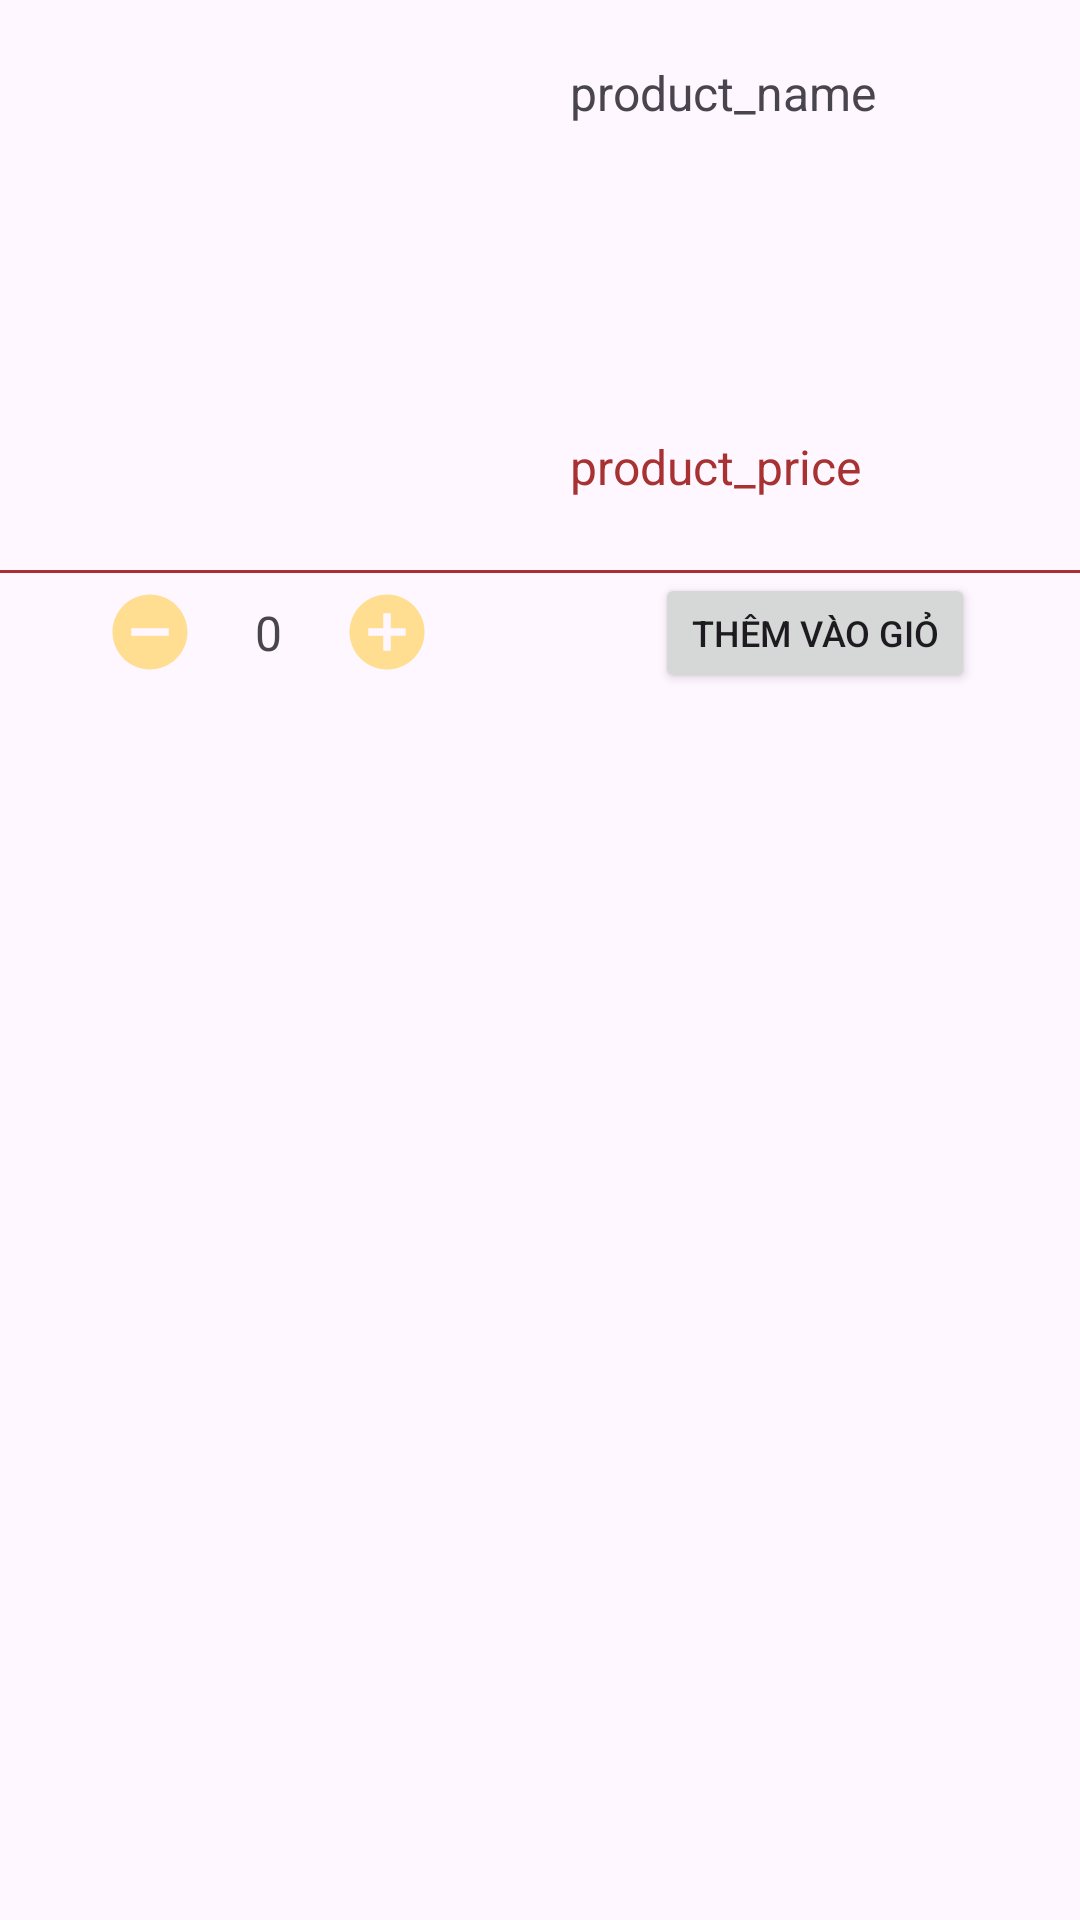

Locate icon controls on the screen. Image size 1080×1920, boxes as (x1, y1, x2, y2).
minus quantity: (112, 594, 188, 670)
plus quantity: (349, 594, 425, 670)
